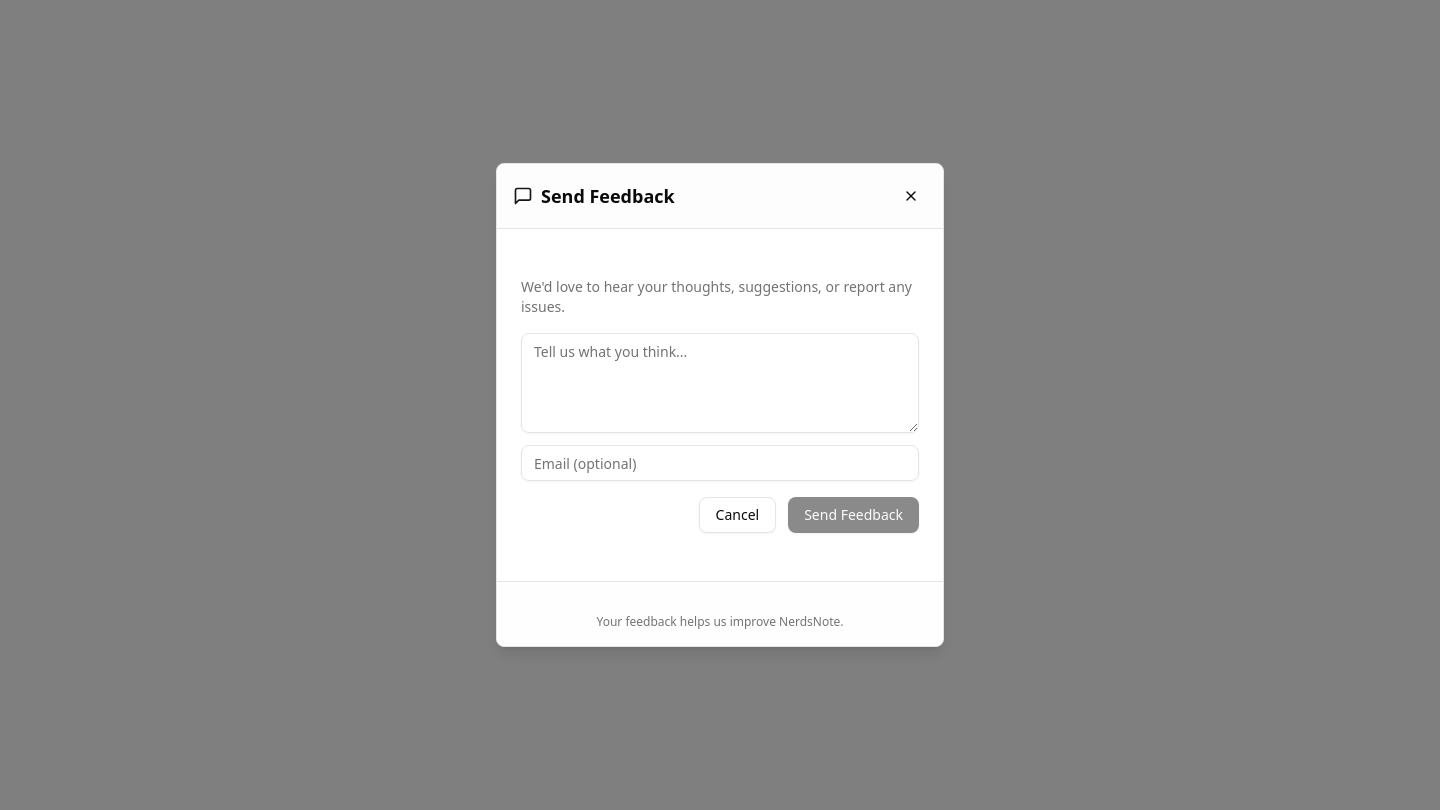
feedback dialog › keeps the dialog open and shows an error when Firestore rejects the write
This screenshot has width=1440, height=810.
Type "Please fix this issue" into the text box with placeholder "Tell us what you think..." at point(720, 383), box x1=521 y1=333 x2=919 y2=433
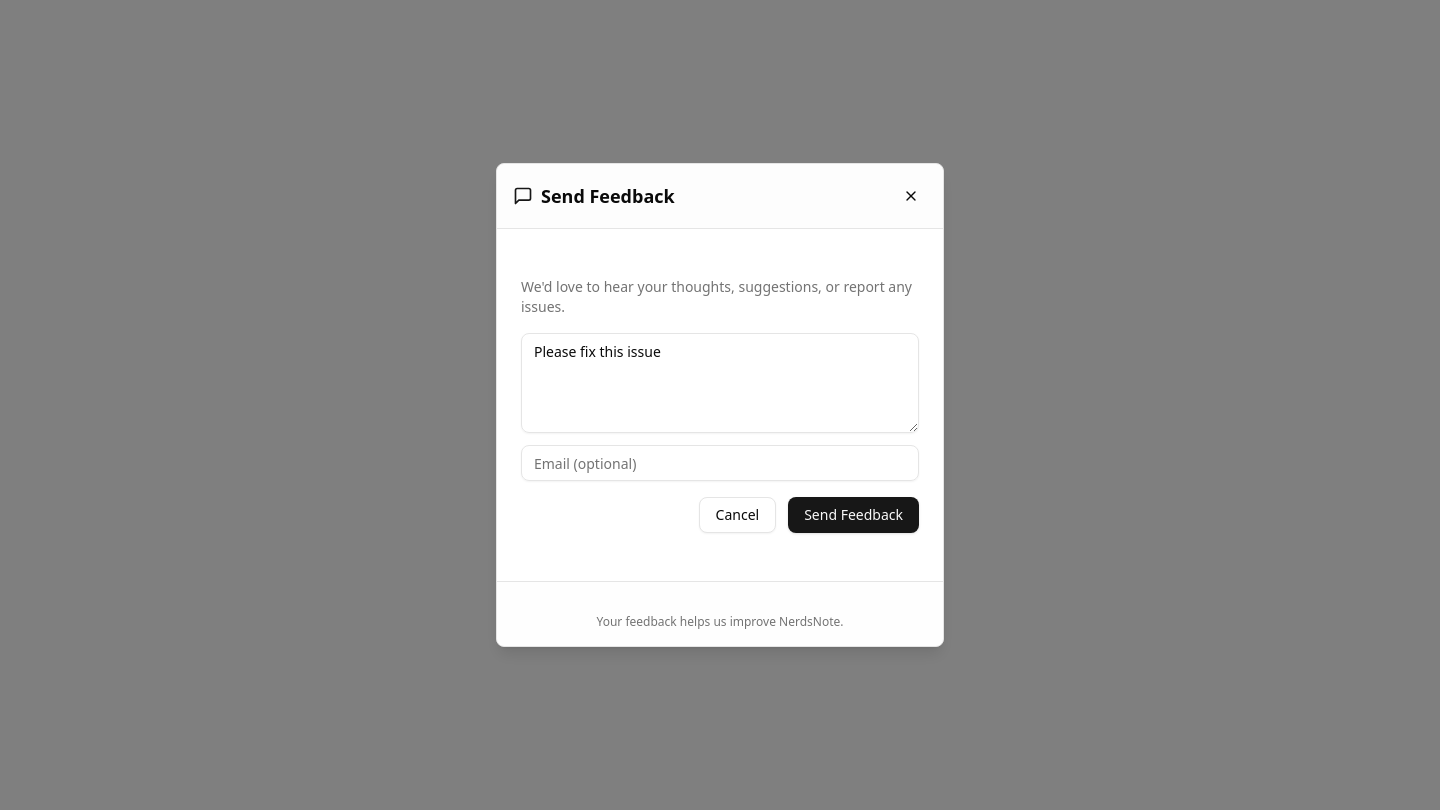
Click the button "Send Feedback" at point(854, 515), box x1=788 y1=497 x2=919 y2=533
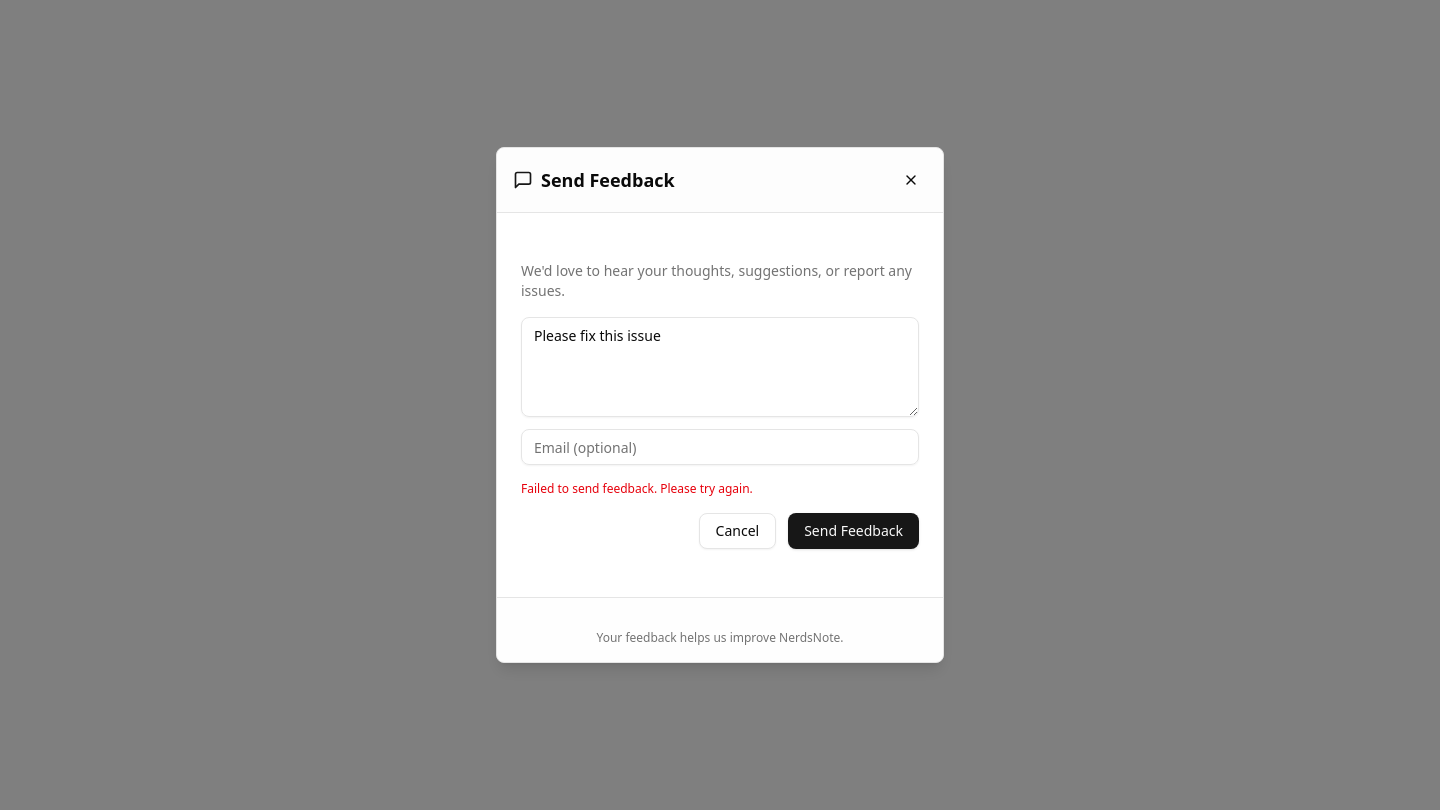
Expected: the text "Failed to send feedback. Please try again." is shown, x1=521 y1=480 x2=753 y2=497
